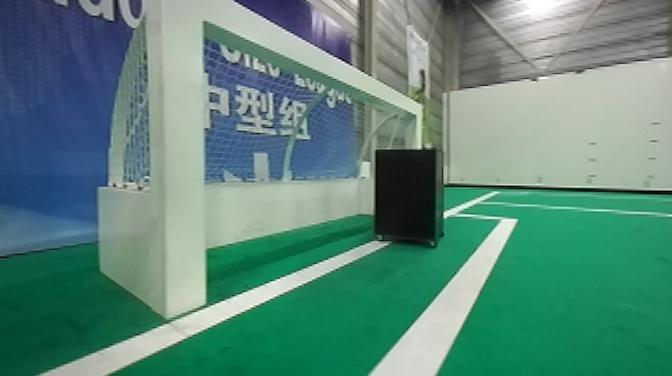goalpost: (140, 1, 210, 316), (399, 99, 422, 156)
